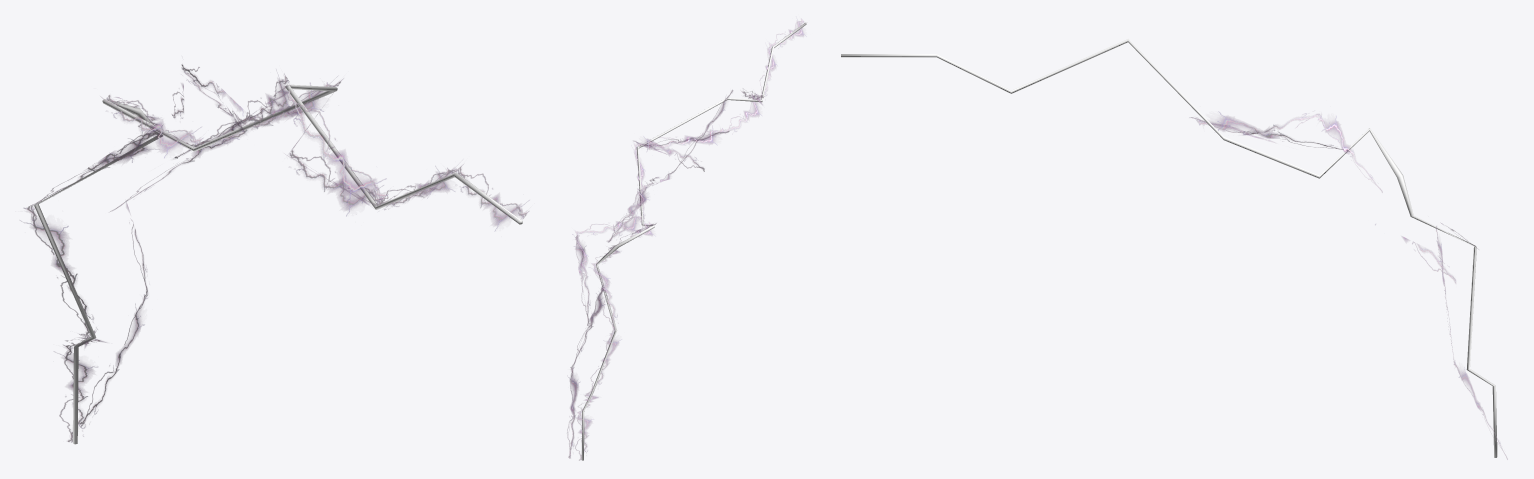
File: TeslaArc1.glb
The picture shows the model from 3 angles, left to right: view 1: azimuth 30°, elevation 25°; view 2: azimuth 150°, elevation 25°; view 3: azimuth 270°, elevation 25°; orthographic projection. The views are drawn at different scales.
Visible parts, largest first — view 1: arc1.png__, gfxGlow_blue_a.png__; view 2: arc1.png__, gfxGlow_blue_a.png__; view 3: gfxGlow_blue_a.png__, arc1.png__.
Boxes of the visible parts, x1,y1,x2,y2 form: arc1.png__: [20, 64, 528, 442]; gfxGlow_blue_a.png__: [34, 84, 522, 444]; arc1.png__: [567, 18, 804, 460]; gfxGlow_blue_a.png__: [581, 22, 806, 460]; gfxGlow_blue_a.png__: [841, 39, 1497, 457]; arc1.png__: [1189, 112, 1507, 459].
Size of the model in its own units: 8.9 by 26.73 by 38.85.
Materials: 2 (1 with a texture image).
